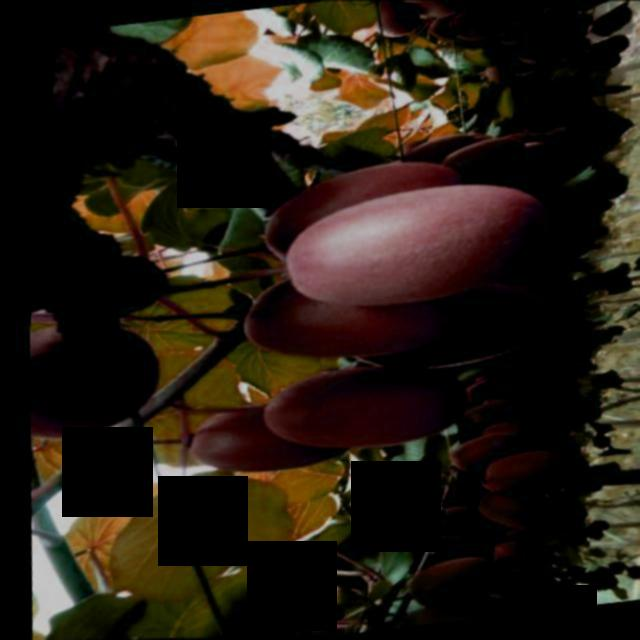kiwi: (270, 179, 554, 318), (225, 245, 491, 374), (241, 156, 467, 277), (251, 356, 475, 464), (16, 311, 165, 445), (177, 394, 360, 484), (403, 556, 503, 615), (432, 135, 522, 188), (473, 485, 558, 540), (473, 450, 567, 499), (440, 436, 521, 473)
